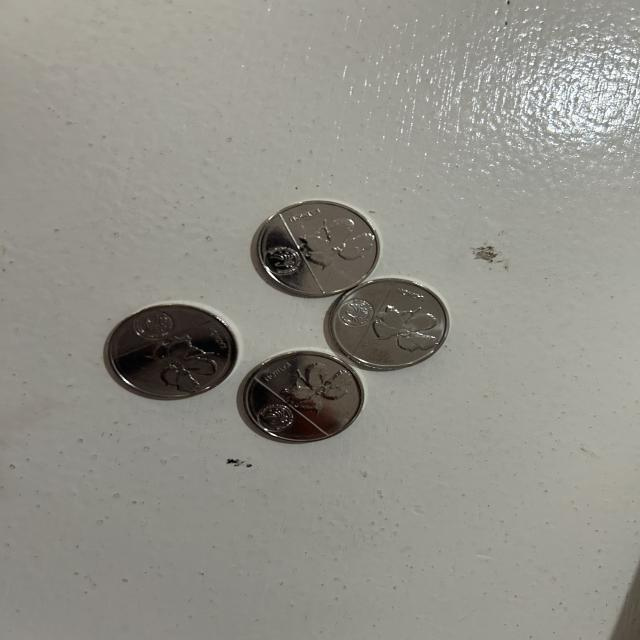25Cent_New_Back: (145, 331, 219, 386), (282, 360, 353, 413), (300, 216, 368, 270), (373, 303, 437, 358)
